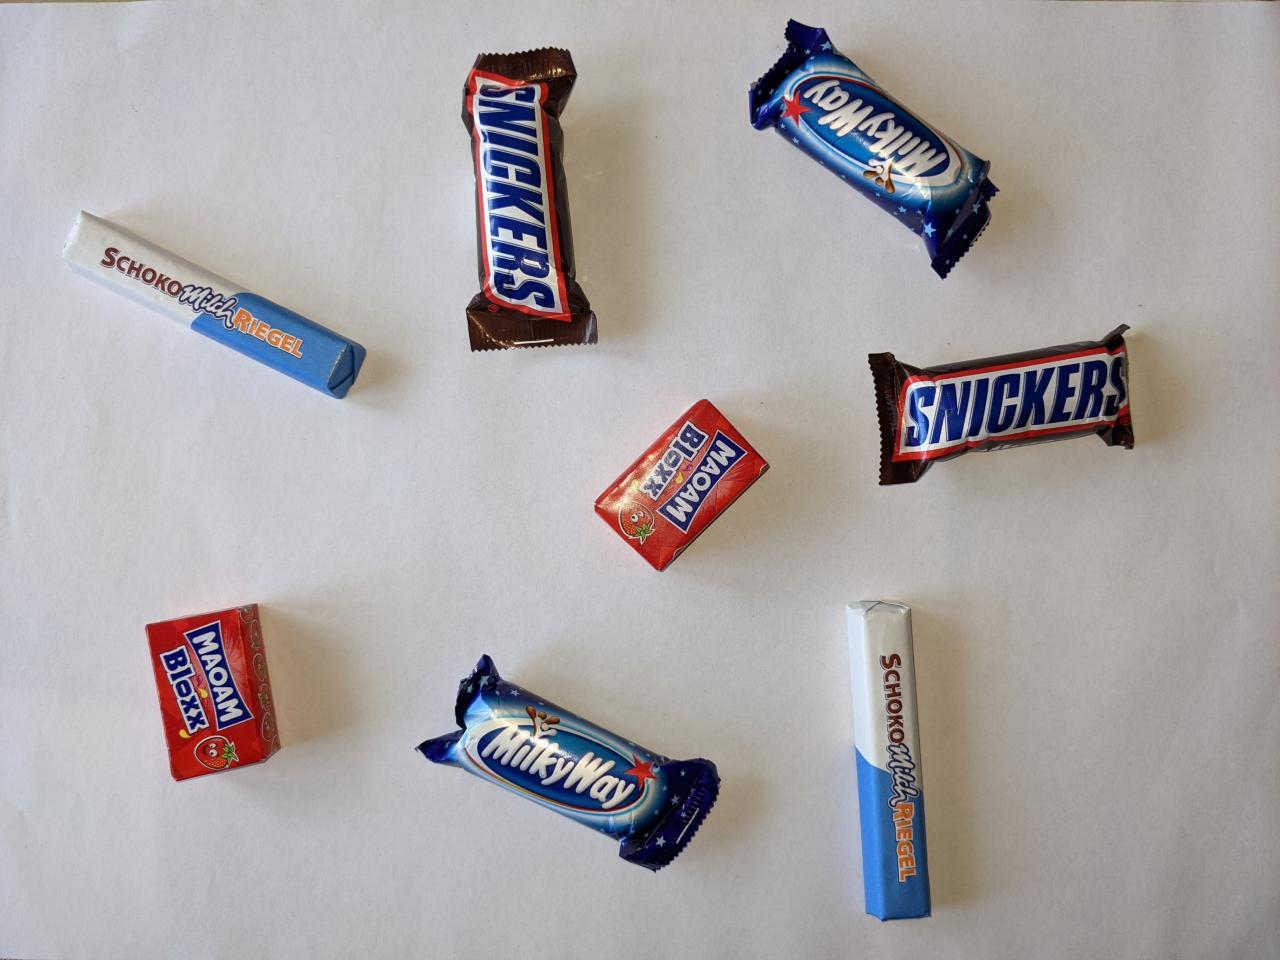MAOAM: (587, 390, 779, 581), (139, 595, 289, 790)
MilkyWay: (406, 650, 730, 879), (740, 12, 1005, 284)
Schokoriegel: (53, 203, 372, 405), (839, 591, 942, 926)
Snickers: (863, 313, 1150, 492), (447, 42, 604, 356)
